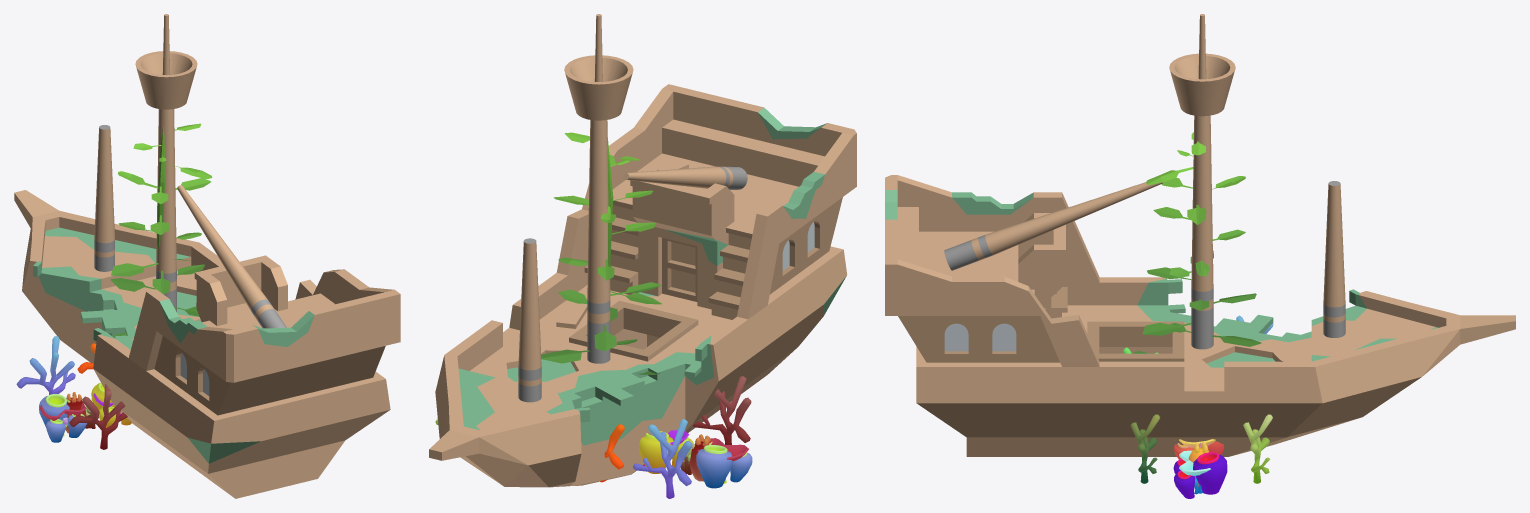
Rendered from reef.glb.
The picture shows the model from 3 angles, left to right: view 1: azimuth 30°, elevation 25°; view 2: azimuth 150°, elevation 25°; view 3: azimuth 270°, elevation 25°; orthographic projection. The views are drawn at different scales.
Parts seen in each view (by area): view 1: wreck, seaweed, coral-3, coral-5; view 2: wreck, seaweed, coral-3, coral-5, coral-6; view 3: wreck, seaweed, coral-5, coral-3.
Boxes of the visible parts, box(x1,y1,x2,y2) form: wreck: box(14, 14, 400, 498); seaweed: box(110, 123, 212, 337); coral-3: box(16, 336, 127, 449); coral-5: box(39, 383, 131, 442); wreck: box(429, 14, 856, 487); seaweed: box(541, 132, 661, 374); coral-3: box(435, 376, 751, 498); coral-5: box(639, 431, 752, 488); coral-6: box(668, 430, 748, 461); wreck: box(885, 14, 1515, 456); seaweed: box(1133, 132, 1261, 353); coral-5: box(1173, 441, 1227, 498); coral-3: box(1123, 315, 1273, 483).
Bounding box in the file's own units: 5.5 × 8.09 × 11.
Materials: 9 (3 with a texture image).
